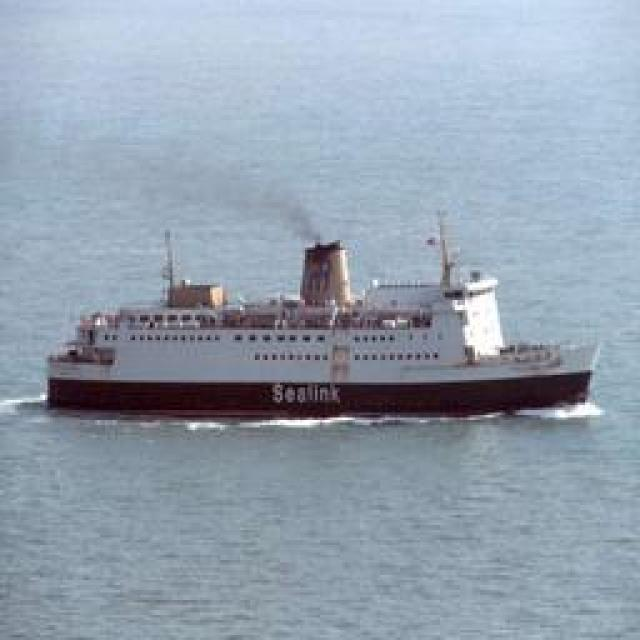ship2: (45, 222, 600, 425)
